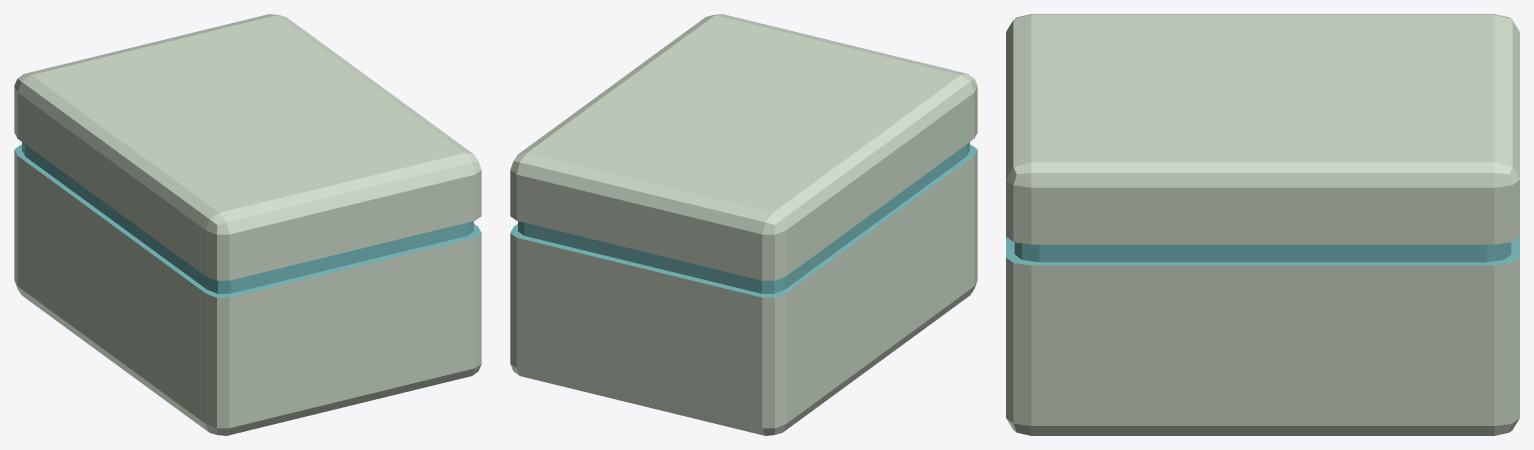
The model's file is SK_P_Crate_02.fbx.
3 views of the same model, side by side, from view 1: azimuth 30°, elevation 25°; view 2: azimuth 150°, elevation 25°; view 3: azimuth 270°, elevation 25° (orthographic). The views are drawn at different scales.
Parts seen in each view (by area): view 1: Crate_02; view 2: Crate_02; view 3: Crate_02.
Boxes of the visible parts, box(x1,y1,x2,y2) form: Crate_02: box(14, 14, 481, 435); Crate_02: box(510, 14, 977, 435); Crate_02: box(1006, 14, 1519, 435).
Size of the model in its own units: 71.05 by 94.22 by 55.25.
